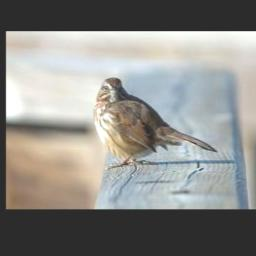Sparrow: (93, 77, 217, 169)
